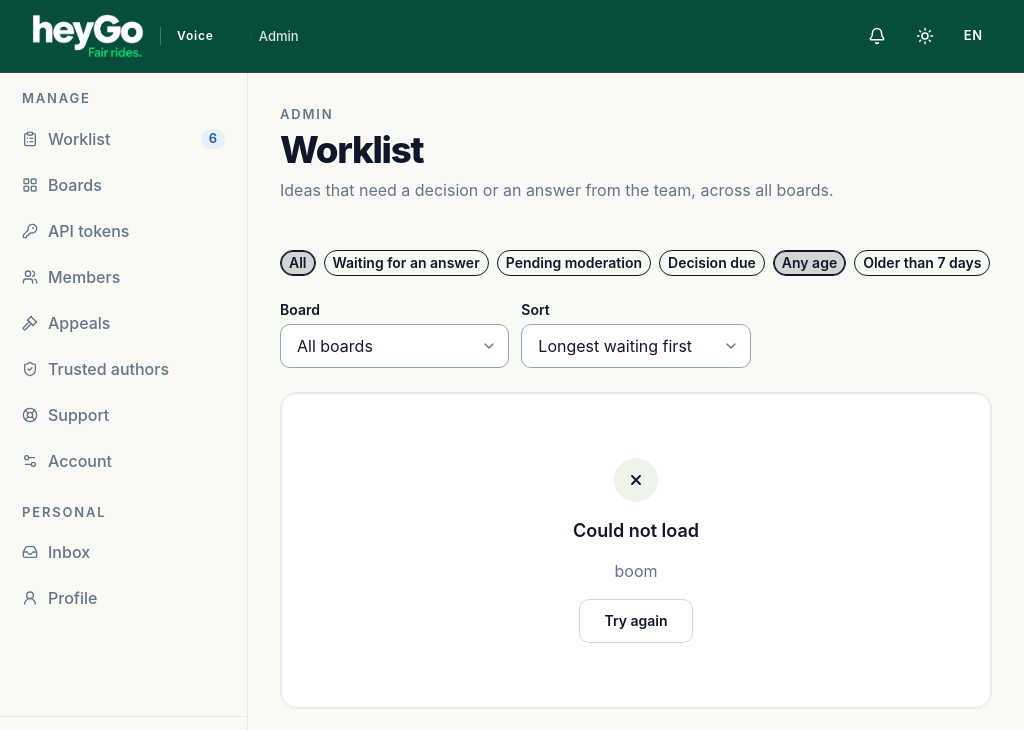
WorklistPage — errors and access › shows an error with retry when the list fails and renders no rows
The width and height of the screenshot is (1024, 730).
Click the button with test id "worklist-error-retry" at (636, 621), box [580,599,693,643]
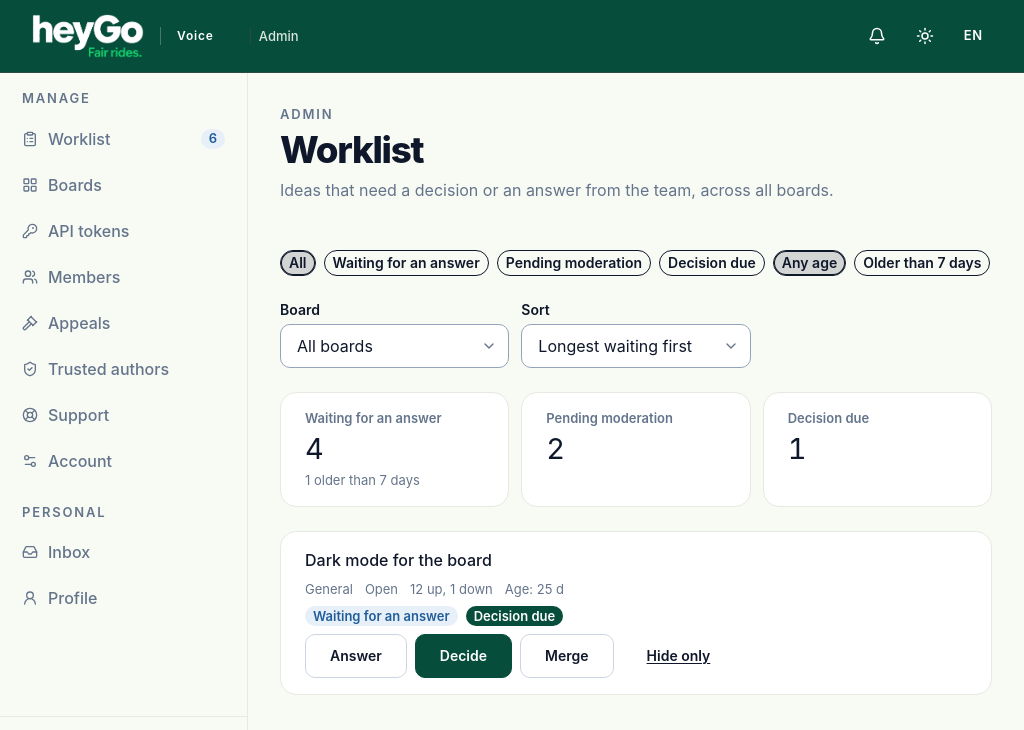
Now the list item with test id "worklist-row-11" is shown, box [305,550,735,678]
